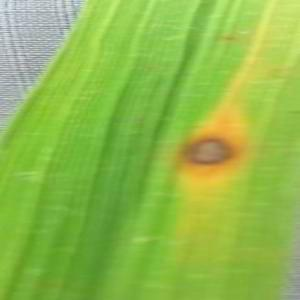0 BrownSpot: (164, 111, 255, 194), (212, 27, 244, 49)
